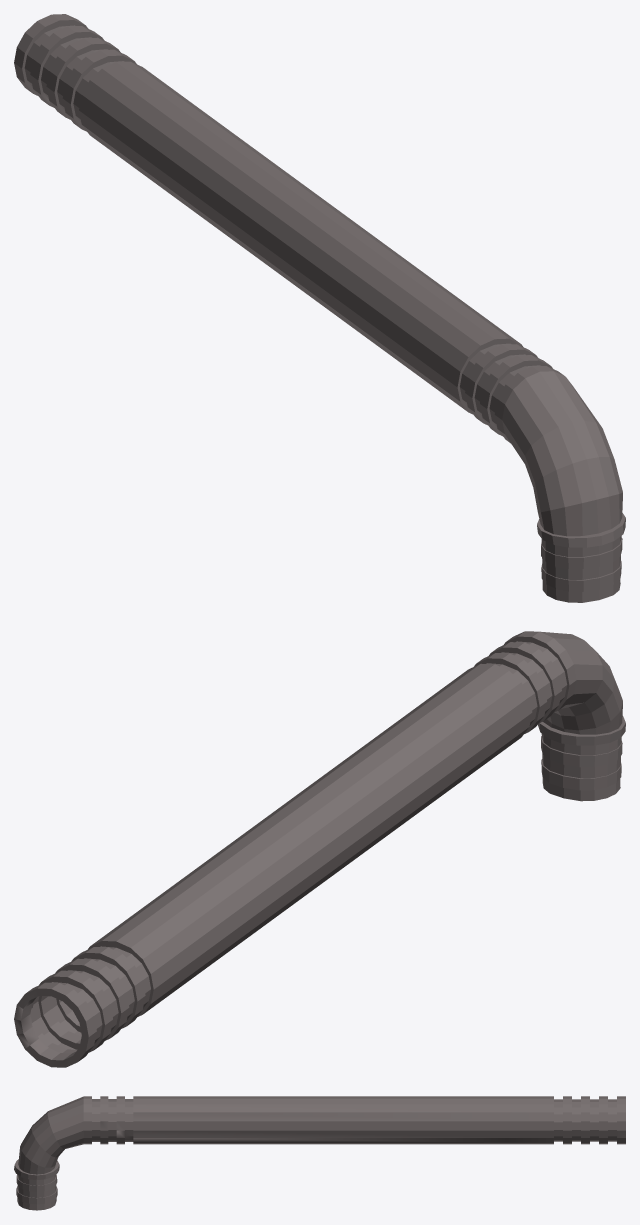
File: Rusty Pipe.fbx
3 views of the same model, one above another, from view 1: azimuth 30°, elevation 25°; view 2: azimuth 150°, elevation 25°; view 3: azimuth 270°, elevation 25° (orthographic). The views are drawn at different scales.
Parts seen in each view (by area): view 1: Rusty Pipe; view 2: Rusty Pipe; view 3: Rusty Pipe.
Part boxes in pixels (x1,y1,x2,y2): Rusty Pipe: (14, 14, 625, 602); Rusty Pipe: (14, 631, 625, 1067); Rusty Pipe: (14, 1096, 625, 1210).
Size of the model in its own units: 0.0599 by 0.1316 by 0.7116.
